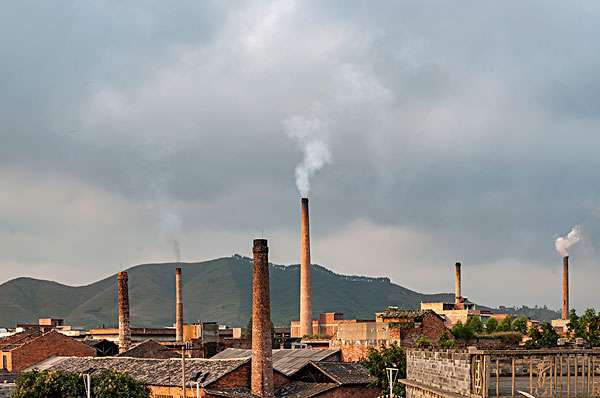dust: (285, 121, 336, 207), (153, 207, 188, 272), (549, 213, 583, 262)
